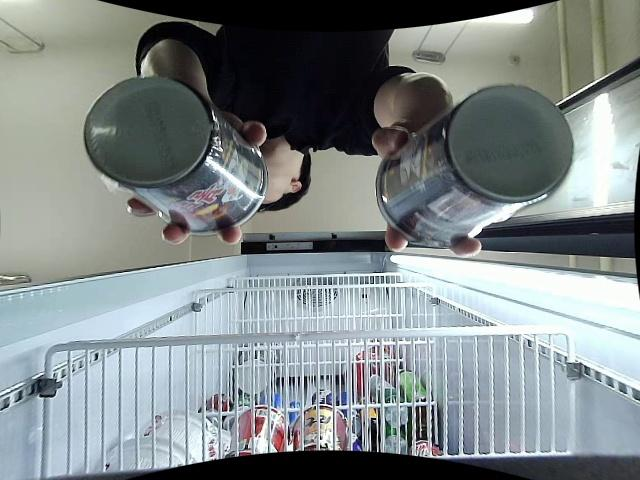00_hand: (124, 121, 268, 245), (370, 121, 483, 259)
08_buldak_S: (375, 86, 575, 249), (84, 76, 267, 238)
